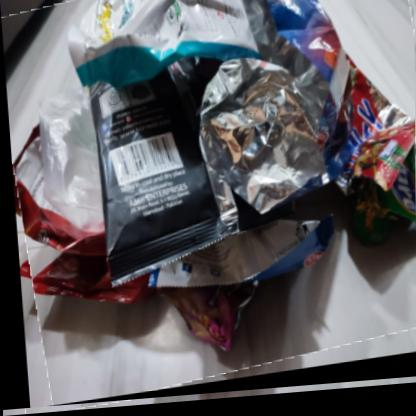Garbage: (1, 1, 416, 413)
